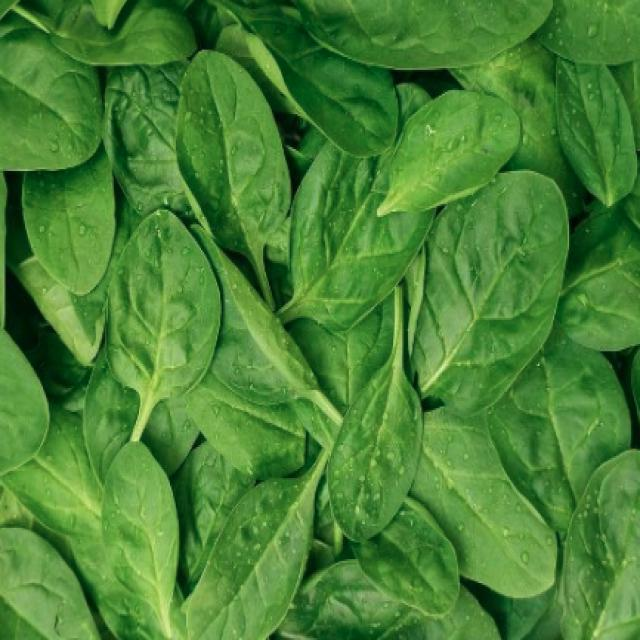spinach: (410, 186, 566, 340), (105, 207, 222, 412), (178, 50, 280, 208), (206, 480, 314, 619), (106, 440, 180, 622), (495, 371, 627, 472), (293, 175, 381, 326), (561, 490, 640, 639), (552, 73, 640, 204), (2, 58, 98, 175), (467, 484, 557, 604), (27, 178, 117, 291), (406, 90, 518, 178), (328, 428, 412, 536), (293, 66, 397, 150)
